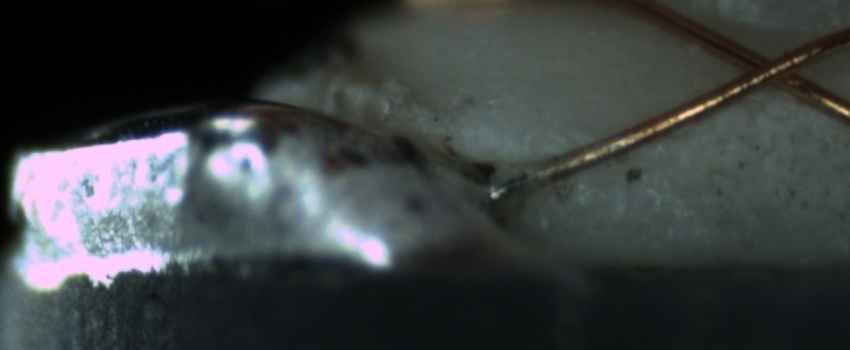CL: (718, 38, 820, 99)
TS: (482, 166, 541, 203)
